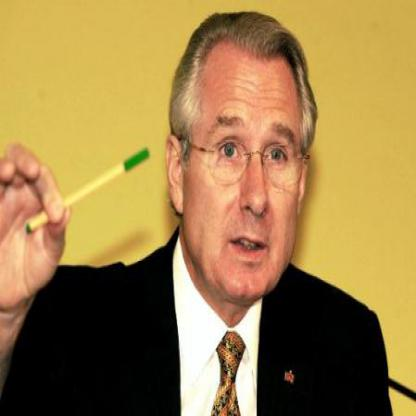face: (184, 18, 312, 305)
